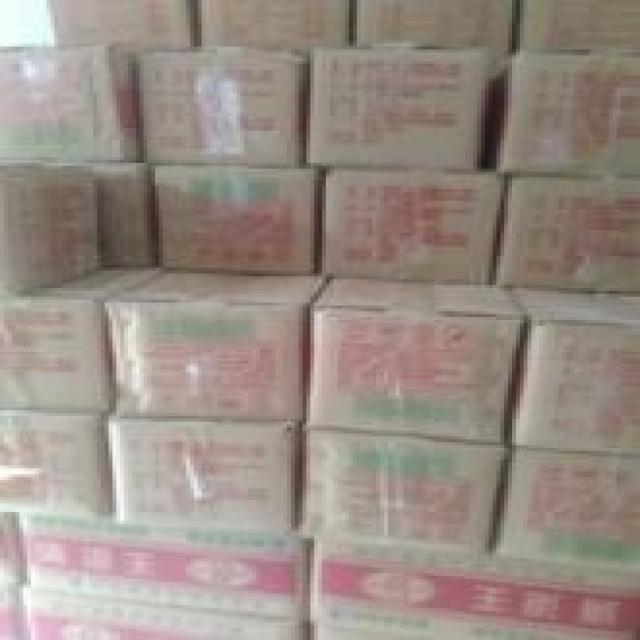box: (306, 276, 528, 442), (101, 271, 322, 419), (310, 541, 640, 637), (19, 512, 306, 620), (299, 428, 504, 547), (0, 271, 159, 410), (508, 288, 640, 454), (306, 47, 485, 169), (109, 416, 299, 529), (318, 169, 504, 282), (485, 52, 640, 177), (140, 47, 306, 163), (496, 448, 640, 570), (493, 175, 640, 294), (155, 166, 314, 271), (23, 585, 303, 640), (0, 166, 97, 297), (0, 413, 109, 515), (357, 0, 516, 49), (202, 0, 349, 52), (50, 0, 194, 52), (93, 163, 155, 268), (516, 0, 640, 49), (0, 515, 23, 582), (0, 585, 23, 637)
